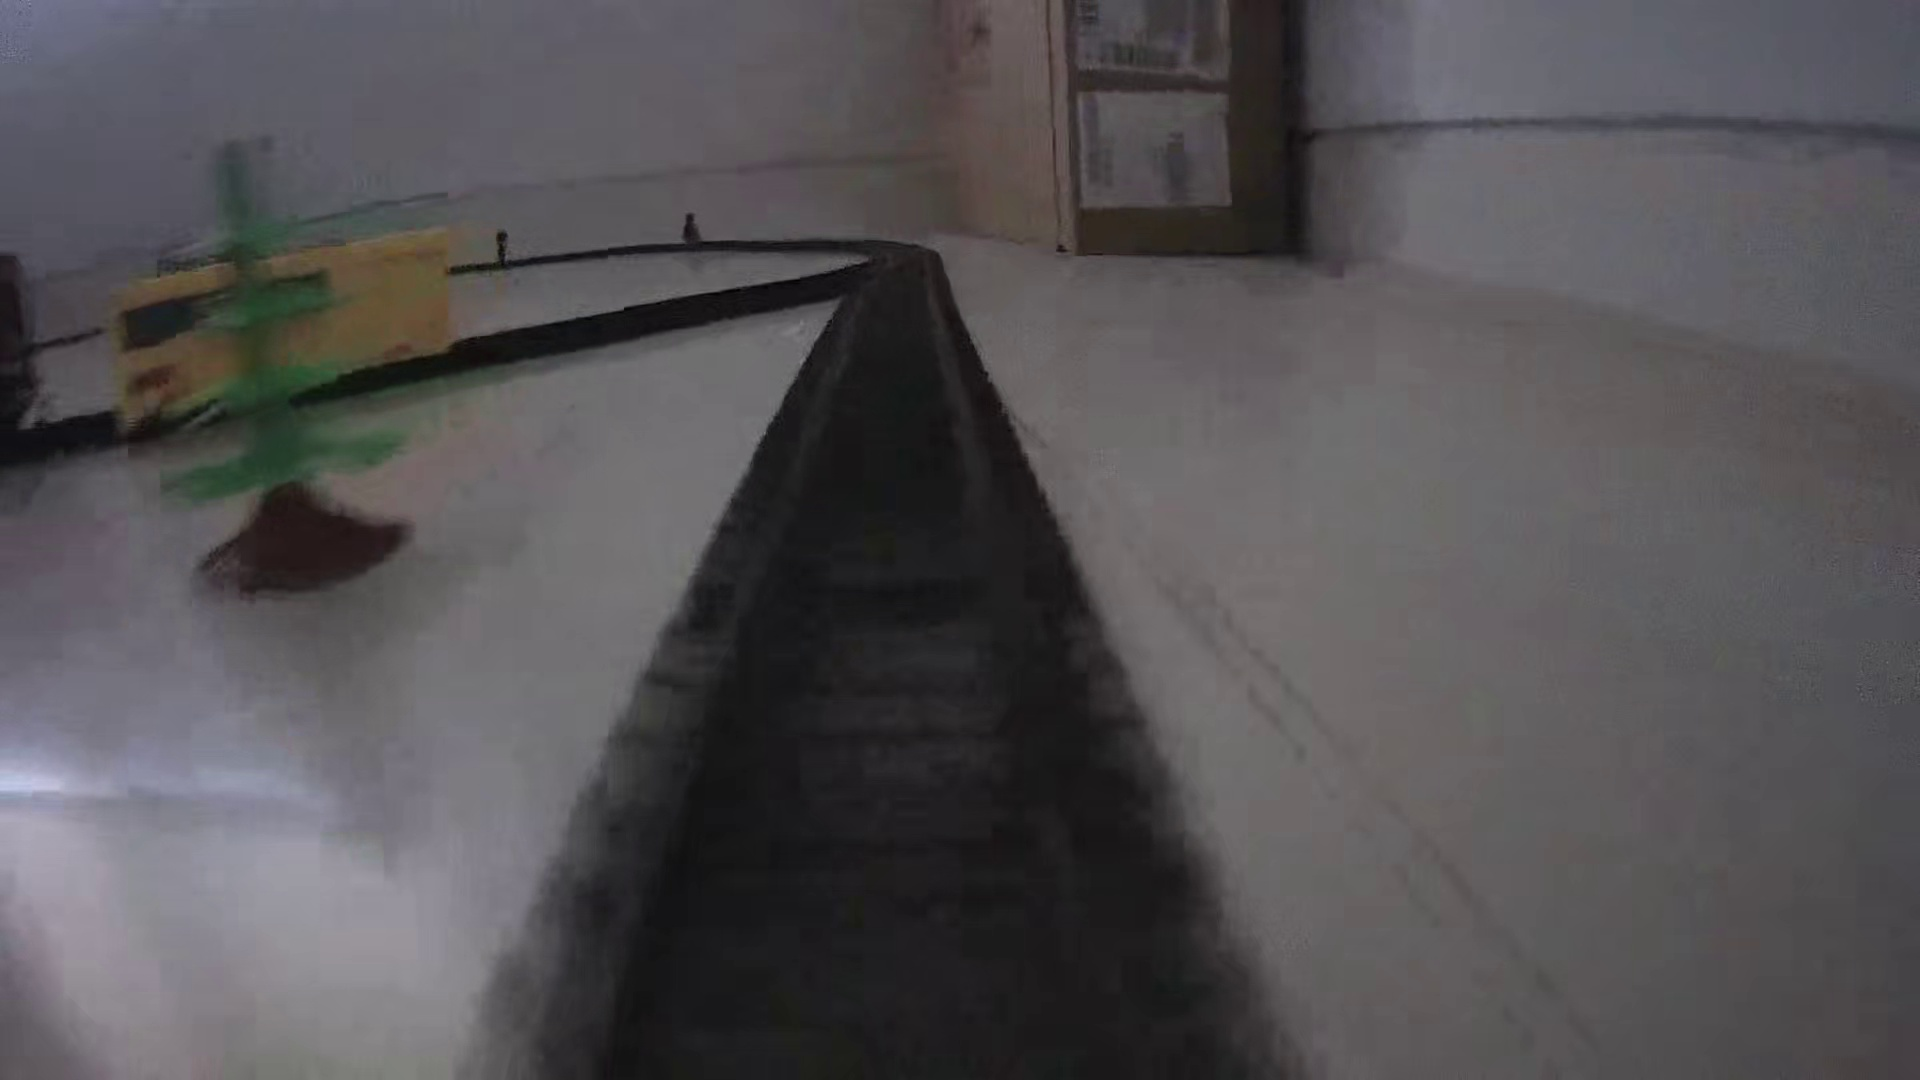tree: (136, 127, 429, 602)
